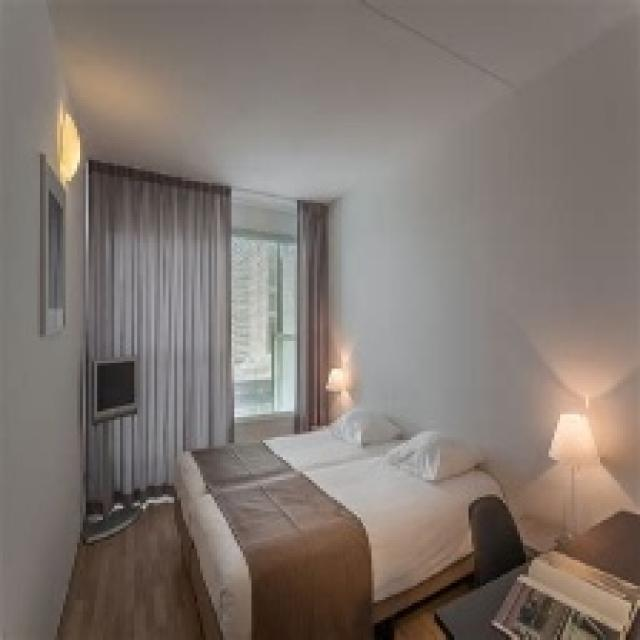Bed: (172, 412, 514, 637)
